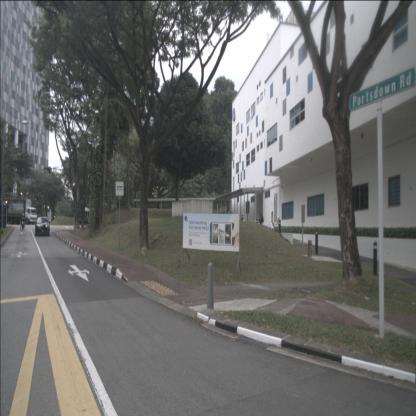human-pedestrian-adult: (259, 212, 264, 225)
vehicle-car: (35, 216, 50, 237)
vehicle-motorcycle: (20, 212, 26, 230)
vehicle-truck: (20, 207, 37, 224)
